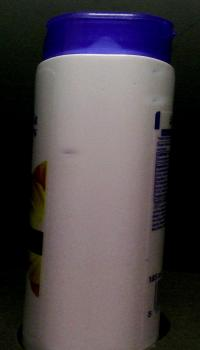dent_marginal: (131, 93, 170, 113), (48, 146, 84, 160), (142, 62, 170, 80)
